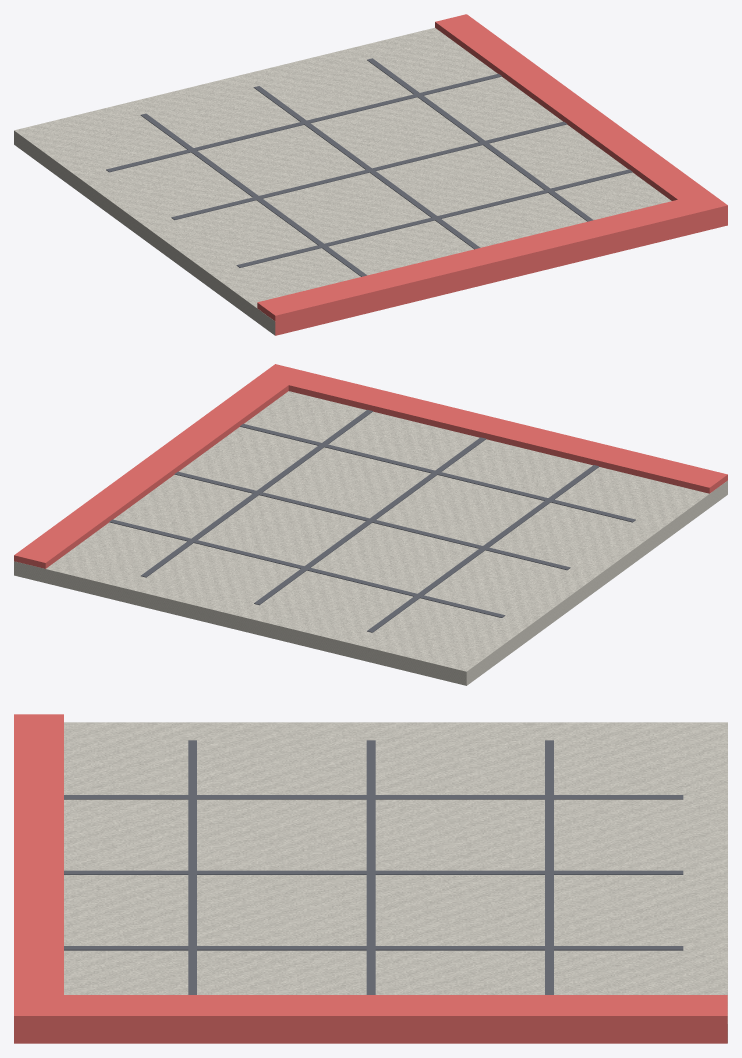
The model's file is theme-park-rides-and-coasters-theme-park-rides-and-coa-53ab411c__28696.glb.
The picture shows the model from 3 angles, top to bottom: view 1: azimuth 30°, elevation 25°; view 2: azimuth 150°, elevation 25°; view 3: azimuth 270°, elevation 25°; orthographic projection. The views are drawn at different scales.
Parts seen in each view (by area): view 1: theme-park-rides-and-coasters-path-tile-corner; view 2: theme-park-rides-and-coasters-path-tile-corner; view 3: theme-park-rides-and-coasters-path-tile-corner.
Part boxes in pixels (x1=…): theme-park-rides-and-coasters-path-tile-corner: x1=14, y1=14, x2=727, y2=335; theme-park-rides-and-coasters-path-tile-corner: x1=14, y1=364, x2=727, y2=685; theme-park-rides-and-coasters-path-tile-corner: x1=14, y1=714, x2=727, y2=1043.
Size of the model in its own units: 4 by 0.17 by 4.
Materials: 3 (1 with a texture image).
